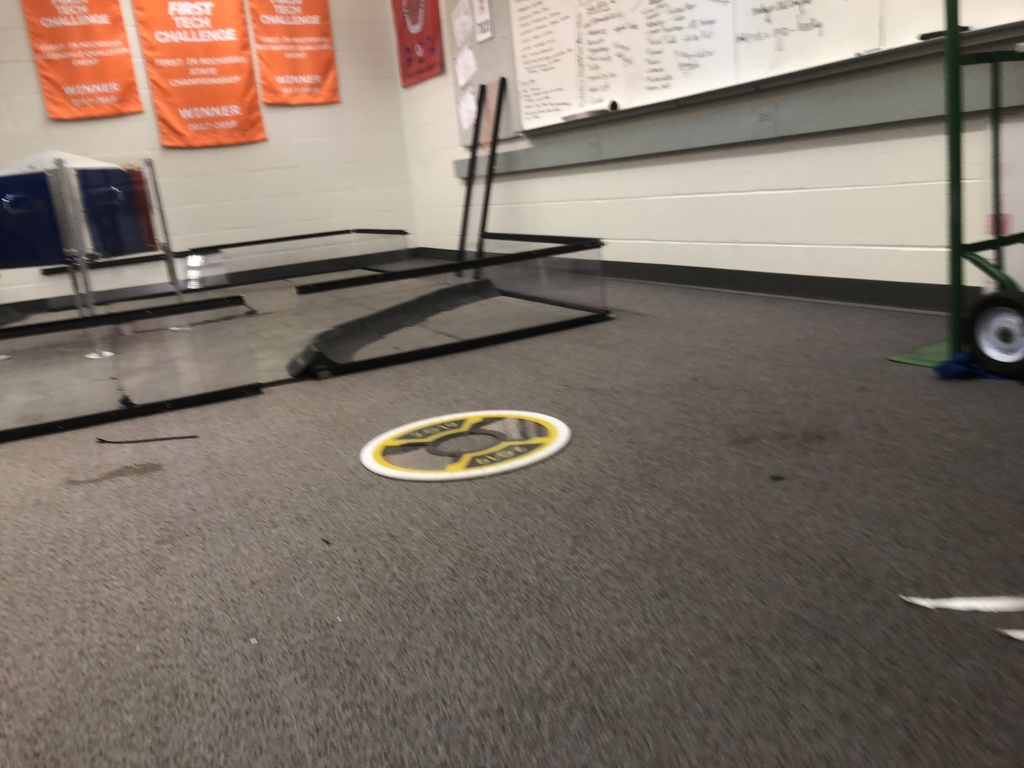hatch_panel: (350, 397, 567, 491)
